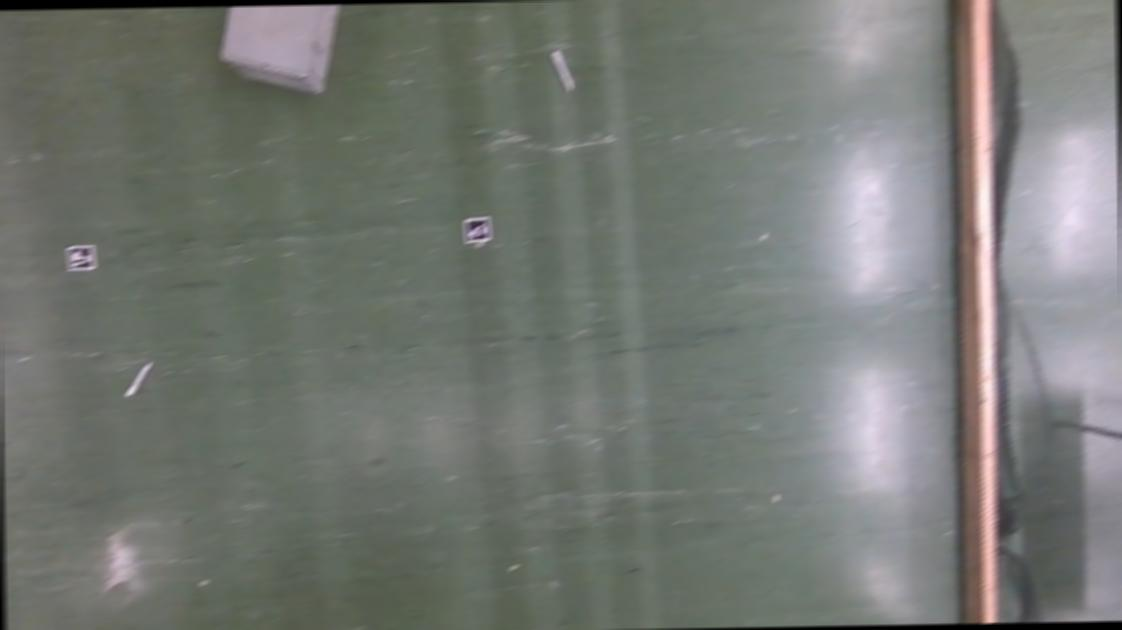probes: (552, 47, 574, 92), (126, 364, 151, 398)
rako: (219, 4, 344, 96)
